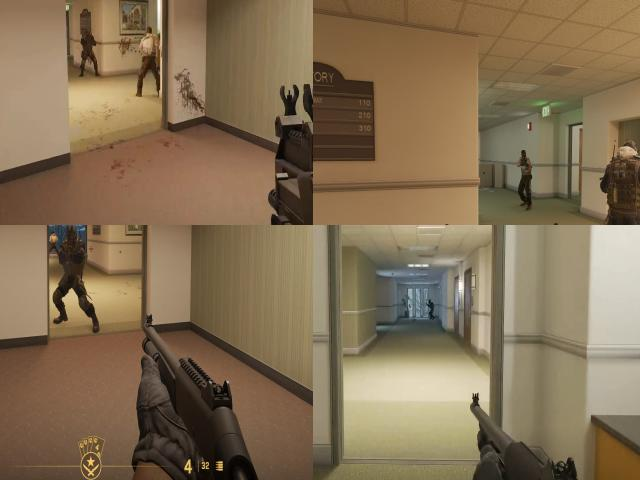CT: (607, 138, 640, 225), (64, 225, 82, 315), (80, 28, 96, 58), (427, 297, 436, 319)
CT-Head: (622, 140, 638, 156), (66, 226, 76, 244), (84, 28, 93, 38)
T: (518, 148, 532, 205), (140, 28, 160, 65), (143, 26, 154, 42), (50, 231, 57, 256)
T-Head: (521, 148, 528, 161), (52, 232, 54, 234)
